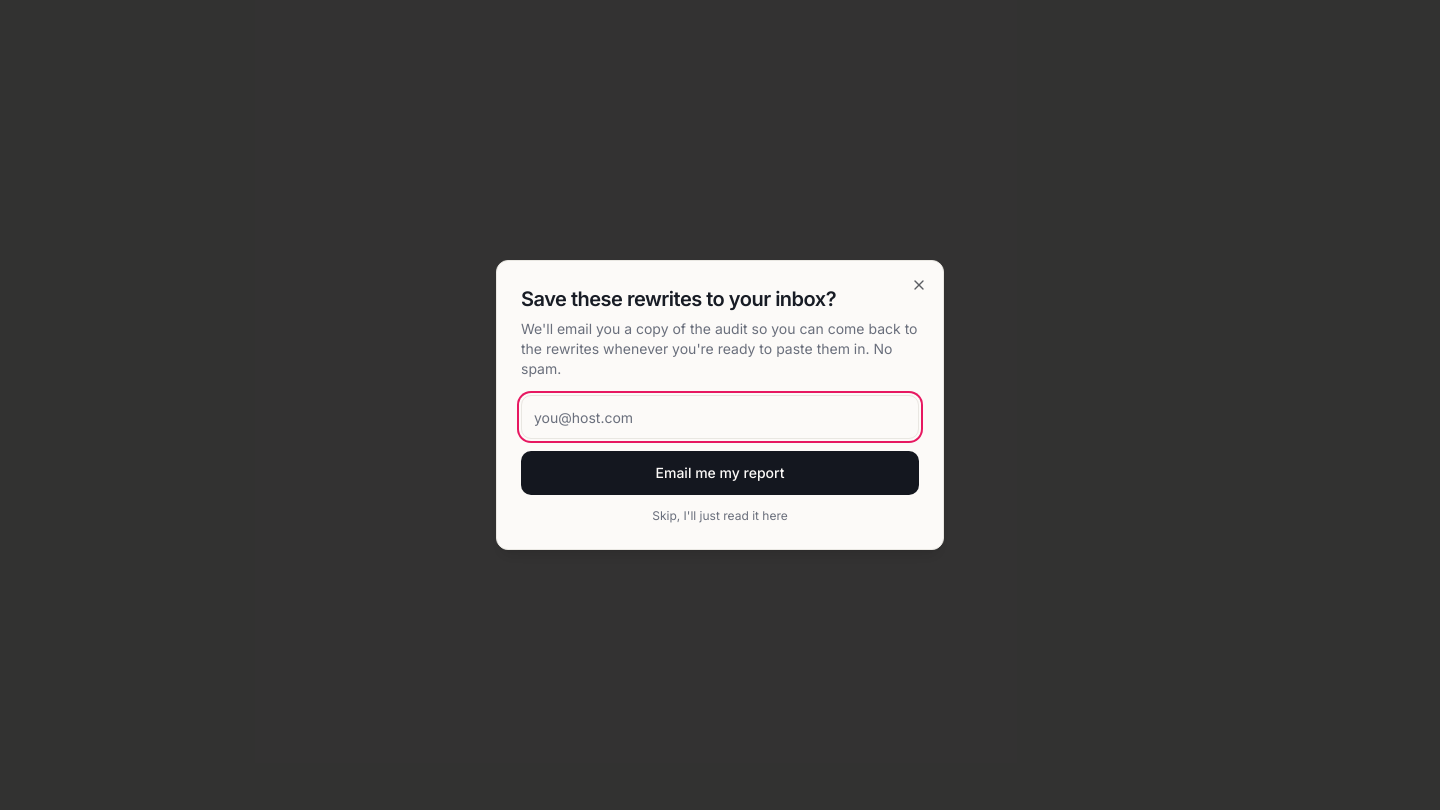
Test case: EmailGateModal › rejects an obviously malformed email
Type "not-an-email" into the field with placeholder "you@host.com".
click(720, 417); type("not-an-email")  # box [521,395,919,439]
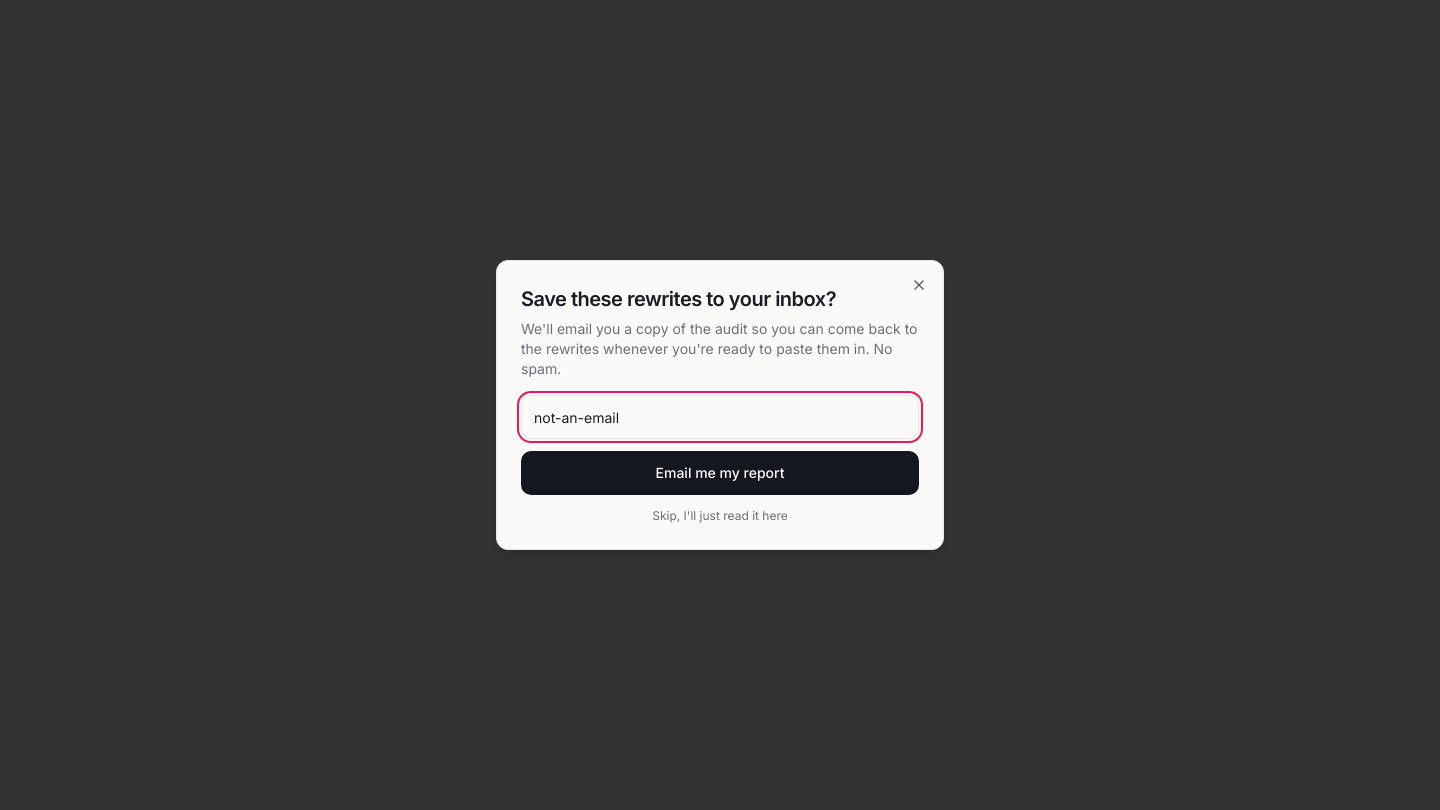
Submit the form "Email me my report Skip, I'll just read it here", box [521,395,919,525]
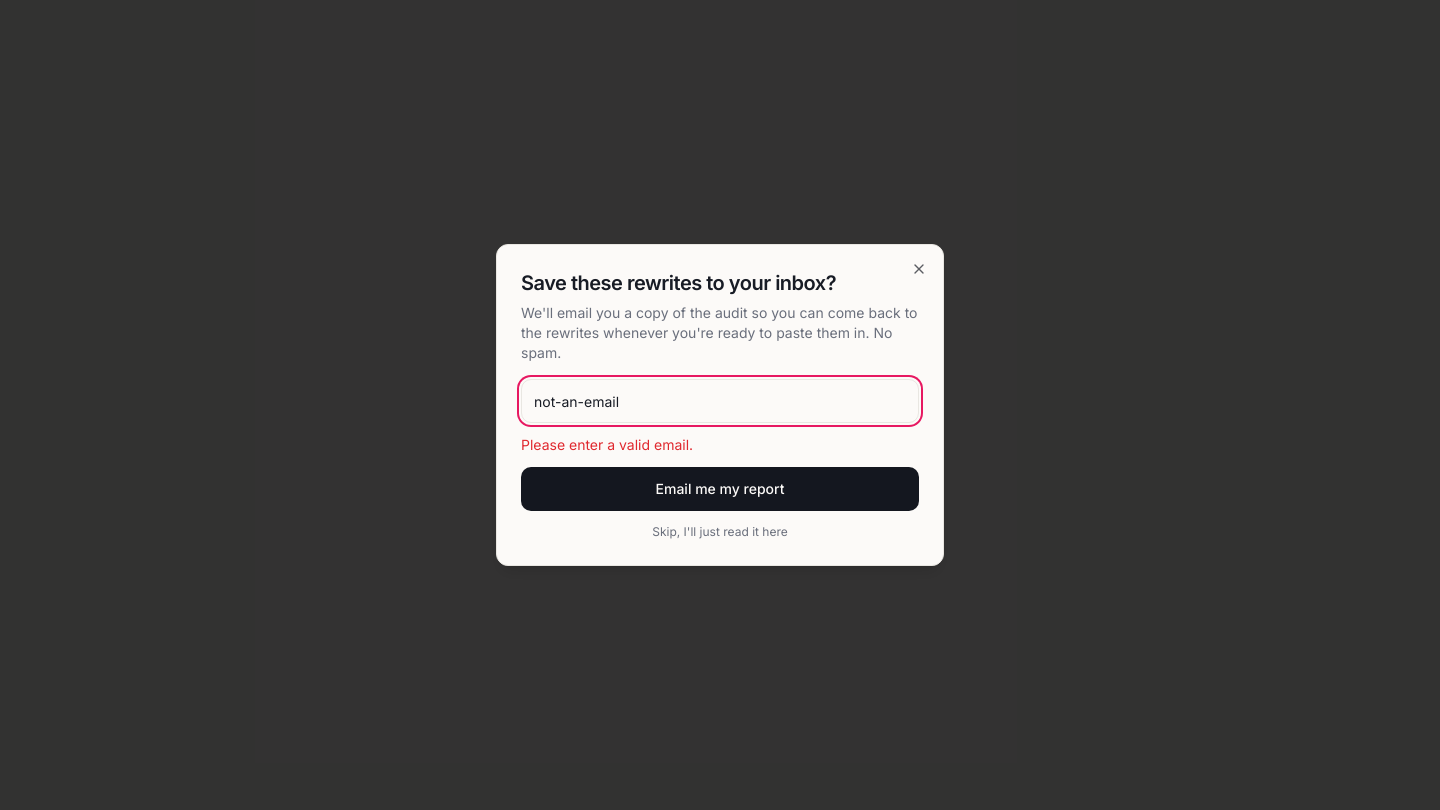
Expected: the text "Please enter a valid email." is shown, [521,436,693,453]
